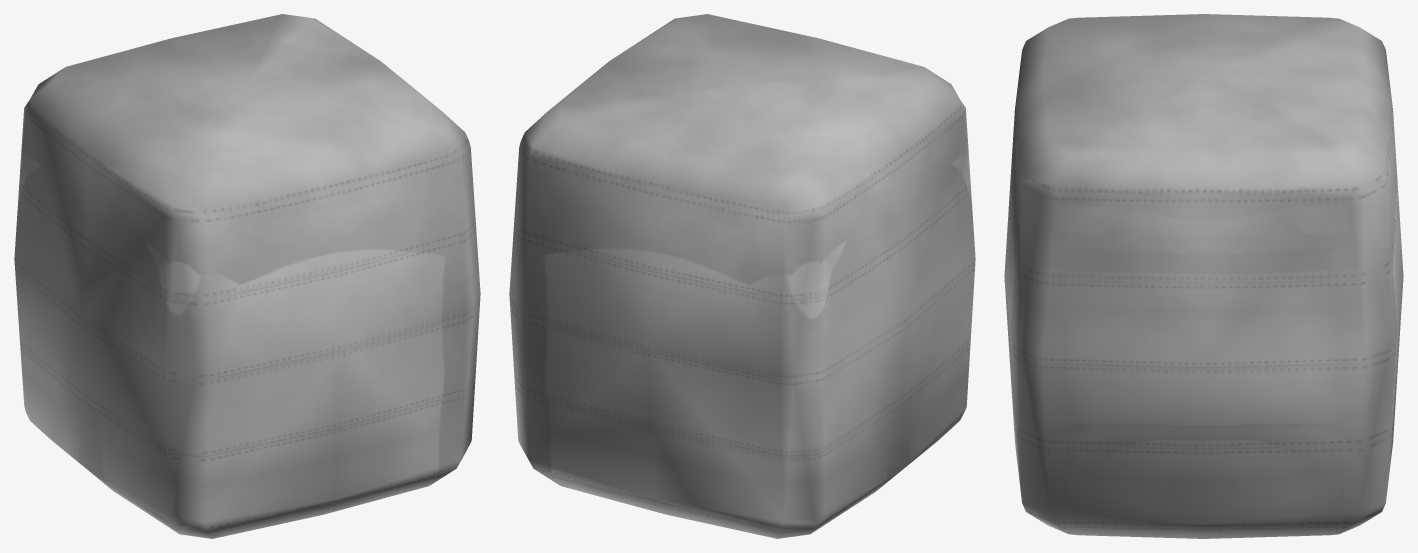
Rendered from RightUpperLeg_C1.fbx.
3 views of the same model, side by side, from view 1: azimuth 30°, elevation 25°; view 2: azimuth 150°, elevation 25°; view 3: azimuth 270°, elevation 25° (orthographic). The views are drawn at different scales.
Visible parts, largest first — view 1: Civ_PilotoLargo_RightUpperLeg_C1; view 2: Civ_PilotoLargo_RightUpperLeg_C1; view 3: Civ_PilotoLargo_RightUpperLeg_C1.
Part boxes in pixels (<box>): Civ_PilotoLargo_RightUpperLeg_C1: <box>14,14,480,538</box>; Civ_PilotoLargo_RightUpperLeg_C1: <box>509,14,975,538</box>; Civ_PilotoLargo_RightUpperLeg_C1: <box>1004,14,1403,538</box>.
Size of the model in its own units: 1.42 by 1.58 by 1.4.
